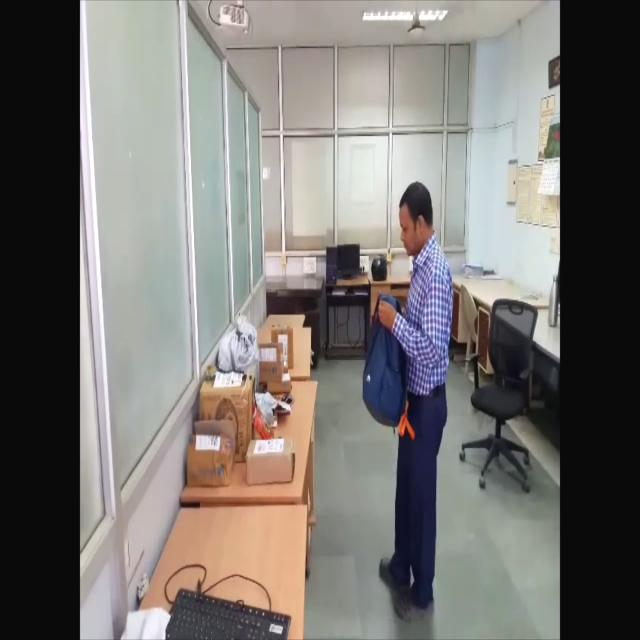shoplifting: (358, 178, 462, 632)
